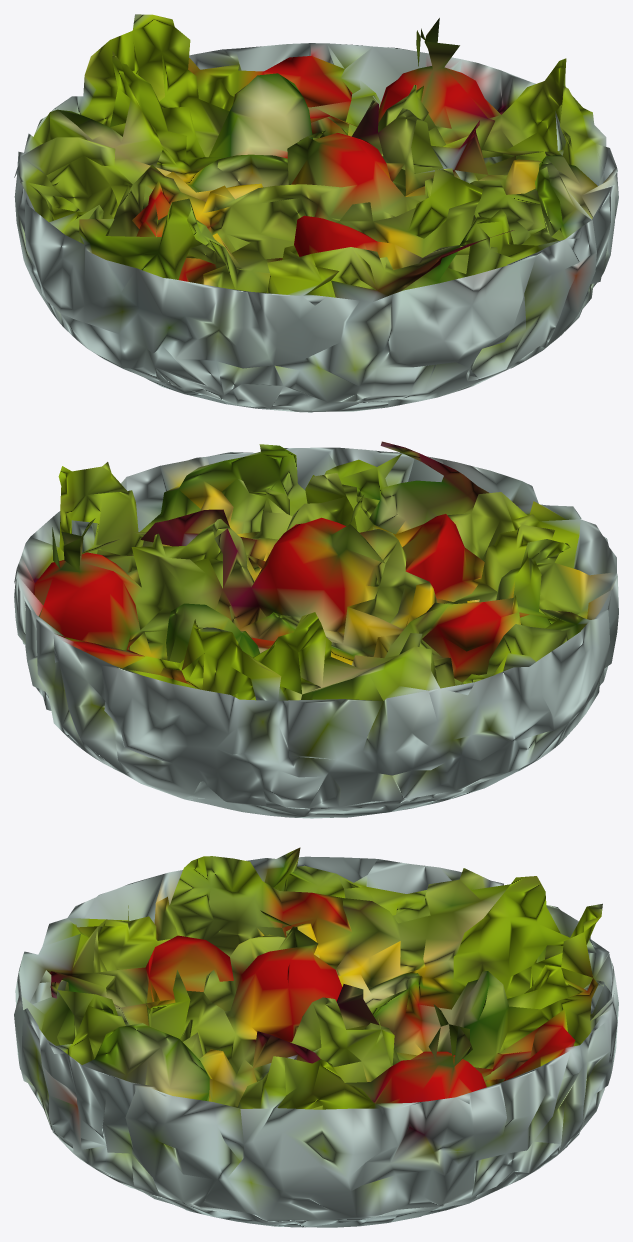
Rendered from salad.glb.
The picture shows the model from 3 angles, top to bottom: view 1: azimuth 30°, elevation 25°; view 2: azimuth 150°, elevation 25°; view 3: azimuth 270°, elevation 25°; orthographic projection.
Visible parts, largest first — view 1: salad; view 2: salad; view 3: salad.
Boxes of the visible parts, box(x1,y1,x2,y2) form: salad: box(14, 14, 618, 412); salad: box(14, 441, 618, 818); salad: box(14, 847, 618, 1227).
Size of the model in its own units: 1.89 by 0.8515 by 1.89.
